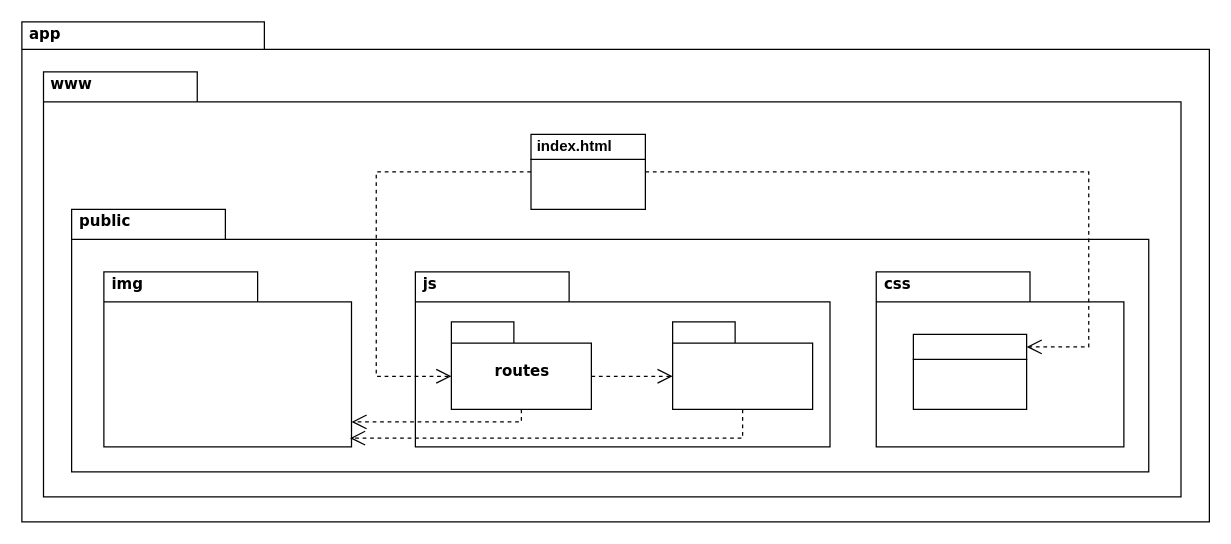
This 1231x544 diagram has some shape labels left out. The centre of each missing label's shape, as x and y in pixels:
"elements" goes at point (742, 365).
"style.css" goes at point (969, 346).
